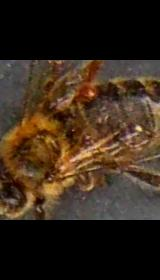varroa_mite: (72, 76, 108, 101)
